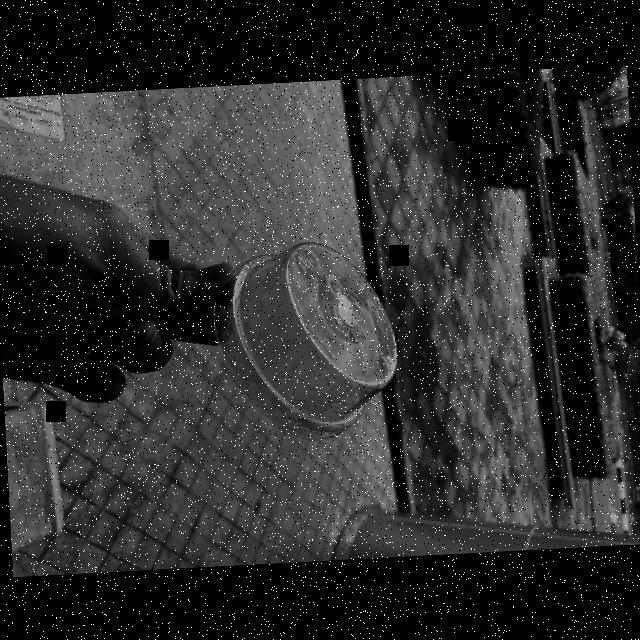plastic_cup_lid: (203, 229, 404, 453)
